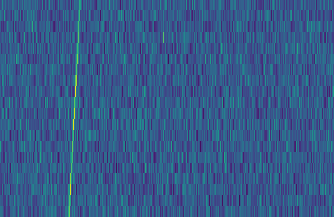signal: (61, 0, 82, 217)
